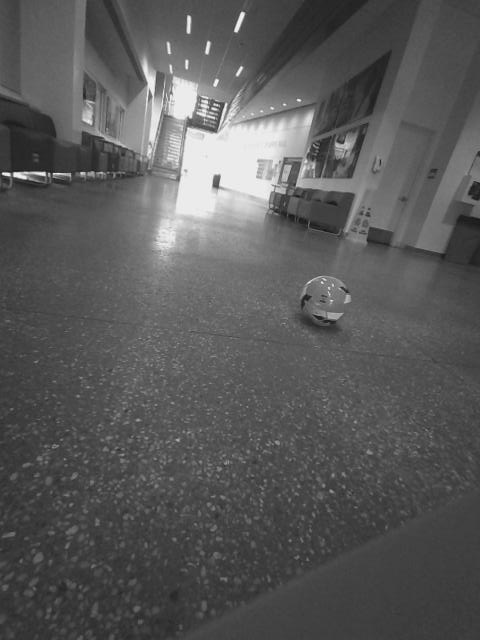ball: (296, 273, 356, 328)
